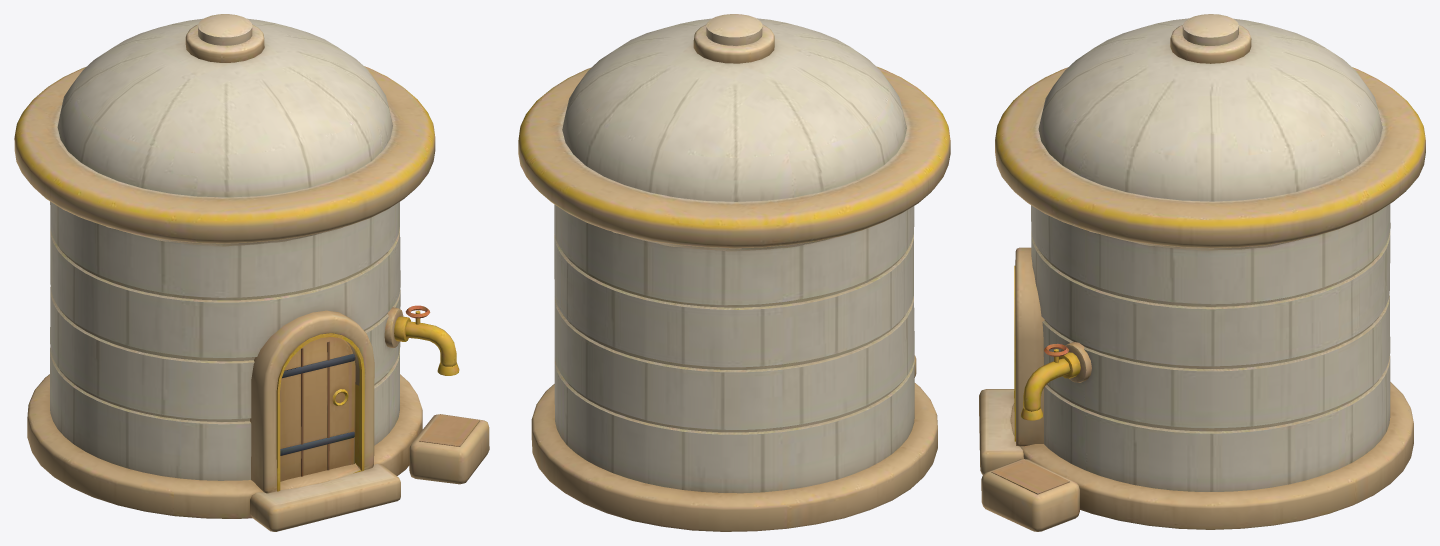
Rendered from old-cistern.glb.
3 views of the same model, side by side, from view 1: azimuth 30°, elevation 25°; view 2: azimuth 150°, elevation 25°; view 3: azimuth 270°, elevation 25° (orthographic). The views are drawn at different scales.
Visible parts, largest first — view 1: cistern; view 2: cistern; view 3: cistern.
Boxes of the visible parts, bbox=[...] form: cistern: bbox=[14, 14, 489, 531]; cistern: bbox=[518, 14, 950, 531]; cistern: bbox=[979, 14, 1425, 531].
Bounding box in the file's own units: 2.77 × 3.01 × 2.86.
10 materials, 10 textured.
